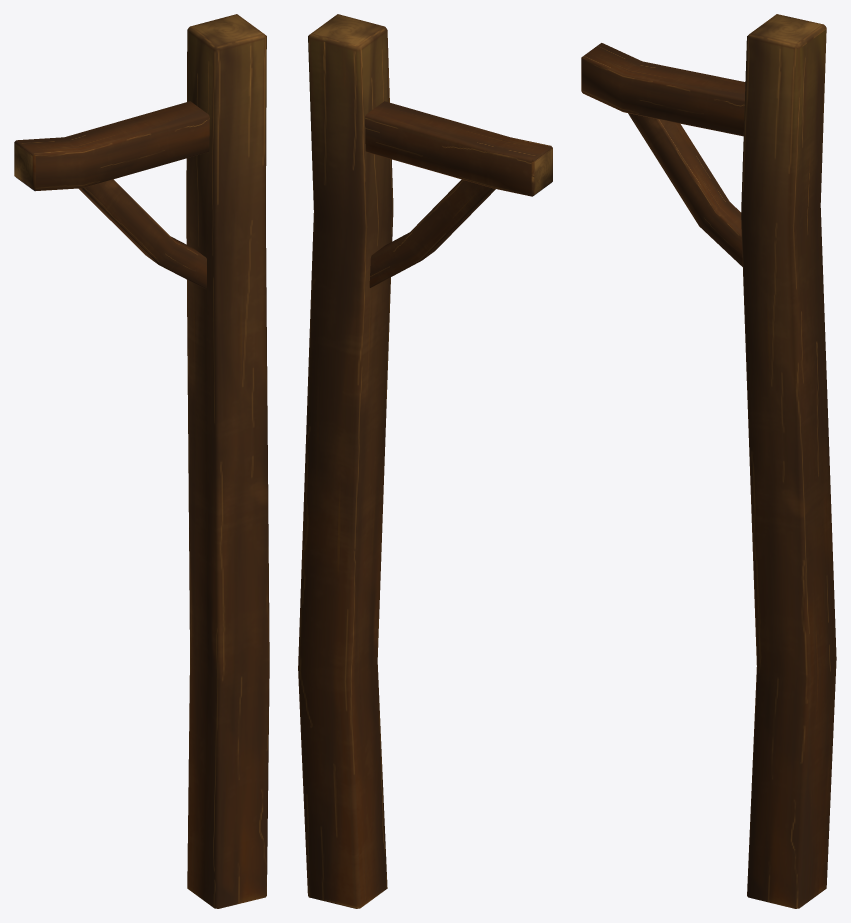
The model's file is V_Farol_Madera_Oscuro.fbx.
3 renders of one model, left to right at view 1: azimuth 30°, elevation 25°; view 2: azimuth 150°, elevation 25°; view 3: azimuth 330°, elevation 25°, orthographic.
Parts seen in each view (by area): view 1: V_Farol_Madera_Oscuro; view 2: V_Farol_Madera_Oscuro; view 3: V_Farol_Madera_Oscuro.
Part boxes in pixels (box(x1,y1,x2,y2)): V_Farol_Madera_Oscuro: box(14, 14, 269, 908); V_Farol_Madera_Oscuro: box(298, 14, 552, 908); V_Farol_Madera_Oscuro: box(581, 14, 836, 908).
Bounding box in the file's own units: 84.2 × 299 × 22.76.
